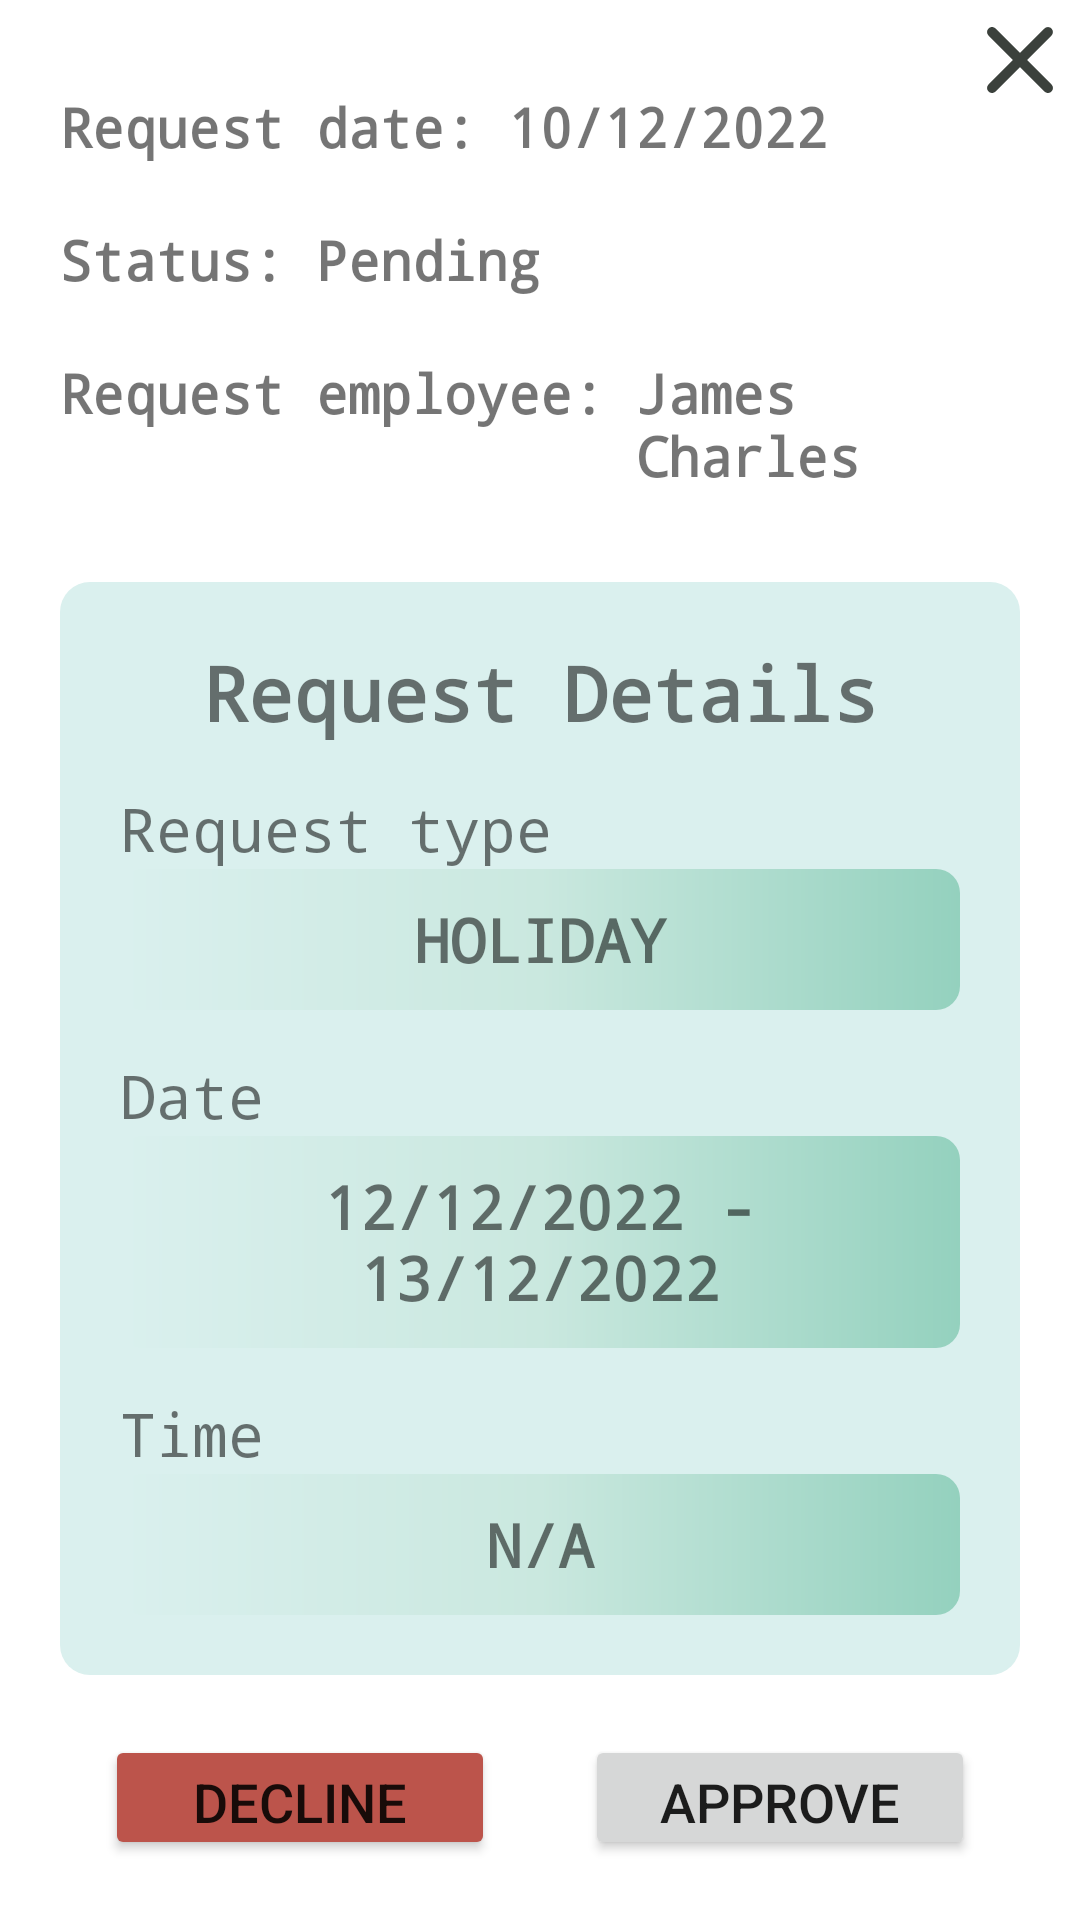

Screen size 1080 × 1920. Icon name, then its box in pixels as {"x1": x1, "y1": y1, "x2": x2, "y2": y2}:
close: {"x1": 987, "y1": 27, "x2": 1053, "y2": 93}
